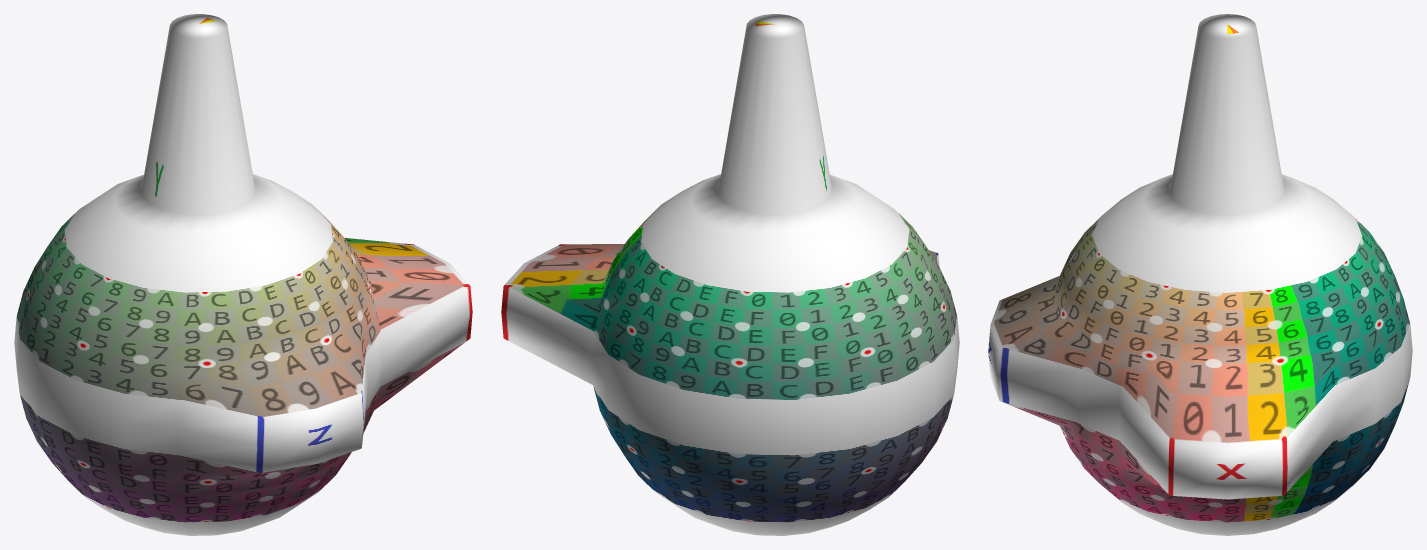
The model's file is TestObject1.fbx.
3 views of the same model, side by side, from view 1: azimuth 30°, elevation 25°; view 2: azimuth 150°, elevation 25°; view 3: azimuth 270°, elevation 25° (orthographic).
Parts seen in each view (by area): view 1: pSphere1; view 2: pSphere1; view 3: pSphere1.
Part boxes in pixels (left/top/right/bottom): pSphere1: left=14, top=14, right=472, bottom=535; pSphere1: left=501, top=14, right=959, bottom=535; pSphere1: left=988, top=14, right=1412, bottom=535.
Size of the model in its own units: 155 by 177 by 138.
